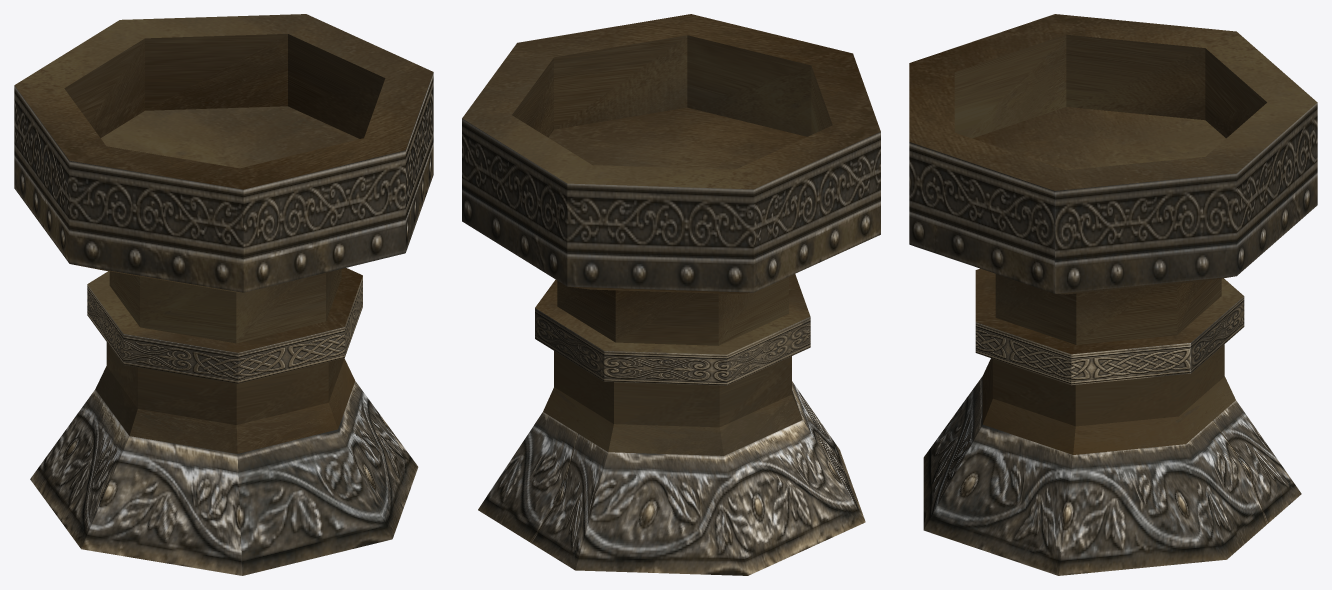
The model's file is LowPoly_Tomedelic_RitualBrazier_01.fbx.
3 renders of one model, left to right at view 1: azimuth 30°, elevation 25°; view 2: azimuth 150°, elevation 25°; view 3: azimuth 270°, elevation 25°, orthographic.
Parts seen in each view (by area): view 1: Cylinder; view 2: Cylinder; view 3: Cylinder.
Part boxes in pixels (x1,y1,x2,y2): Cylinder: (14,14,433,575); Cylinder: (462,14,880,575); Cylinder: (909,14,1317,575).
Bounding box in the file's own units: 0.7913 × 0.8164 × 0.7715.
1 material, 1 textured.
